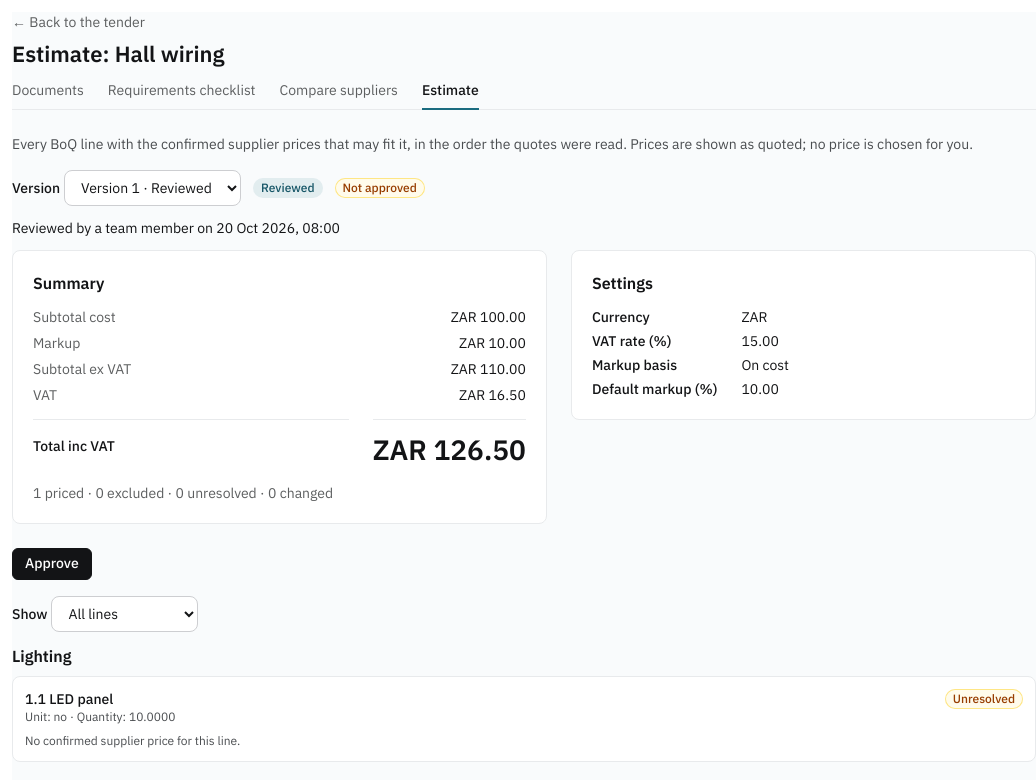
Test case: status actions › lists the blockers when approving is refused as not ready
Click the button "Approve".
click(52, 564)  # box [12, 548, 92, 580]
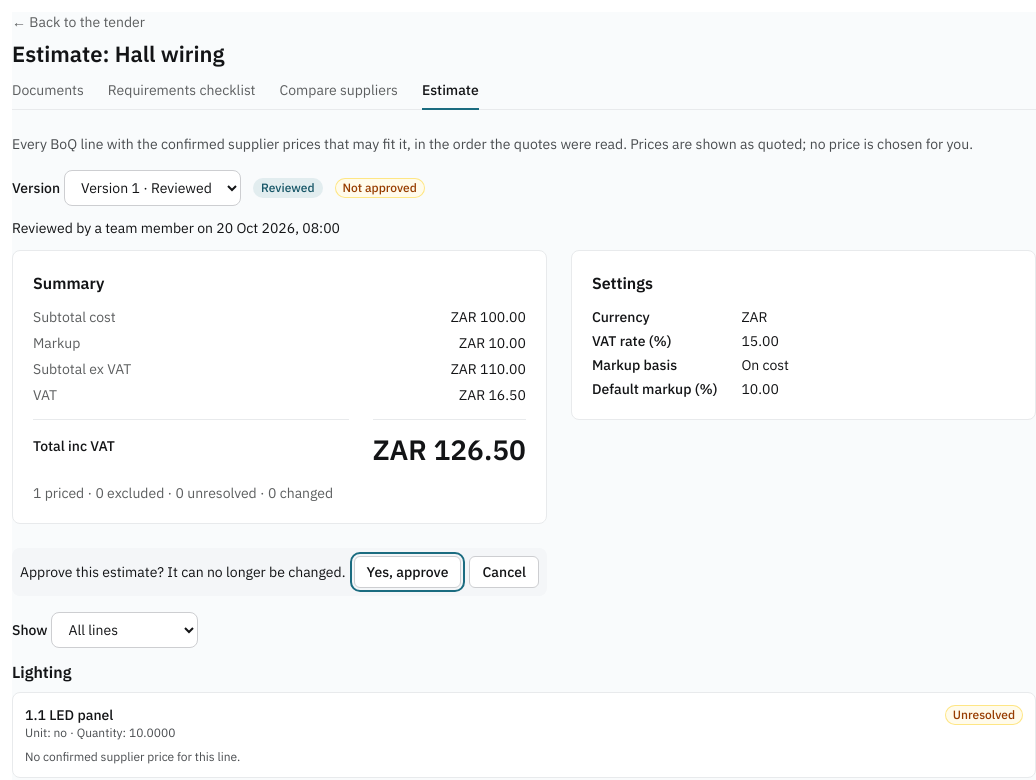
Click the button "Yes, approve".
click(408, 572)  # box [354, 556, 462, 588]
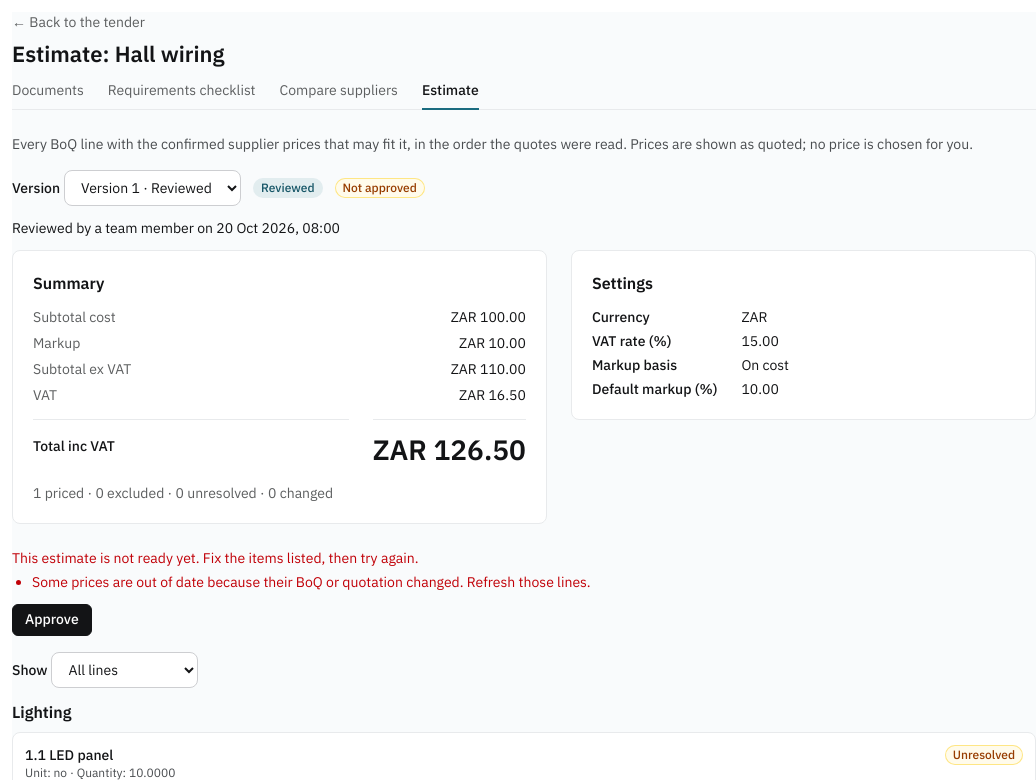
Result: the list item "Some prices are out of date" is shown at [32, 572, 591, 590]
